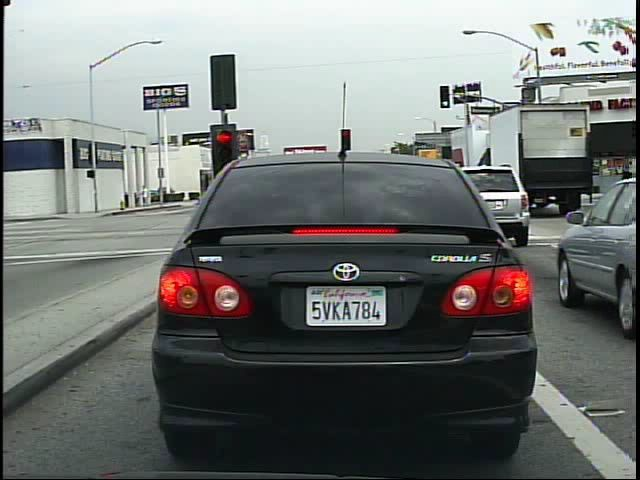person: (517, 169, 532, 202), (140, 182, 152, 211)
